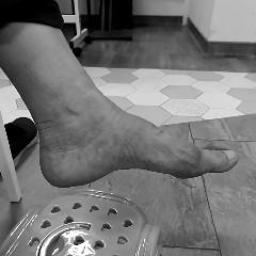Medial View -Left Foot-: (15, 74, 247, 212)
